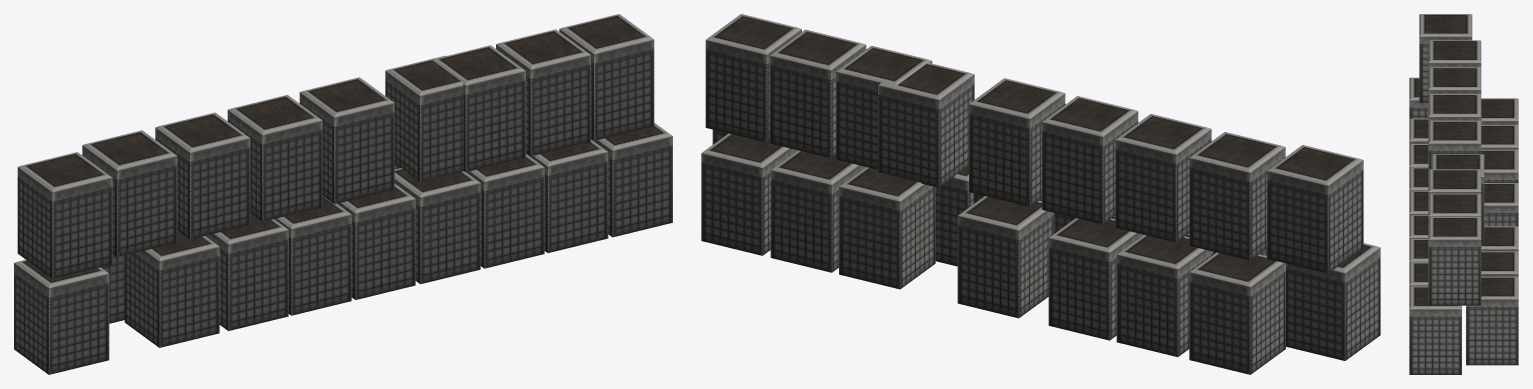
The model's file is sandbag.fbx.
The picture shows the model from 3 angles, left to right: view 1: azimuth 30°, elevation 25°; view 2: azimuth 150°, elevation 25°; view 3: azimuth 270°, elevation 25°; orthographic projection. The views are drawn at different scales.
Parts seen in each view (by area): view 1: sandbag; view 2: sandbag; view 3: sandbag.
Boxes of the visible parts, bbox=[...] form: sandbag: bbox=[14, 14, 672, 374]; sandbag: bbox=[701, 14, 1380, 374]; sandbag: bbox=[1409, 14, 1518, 374].
Bounding box in the file's own units: 155 × 42.06 × 31.07.
